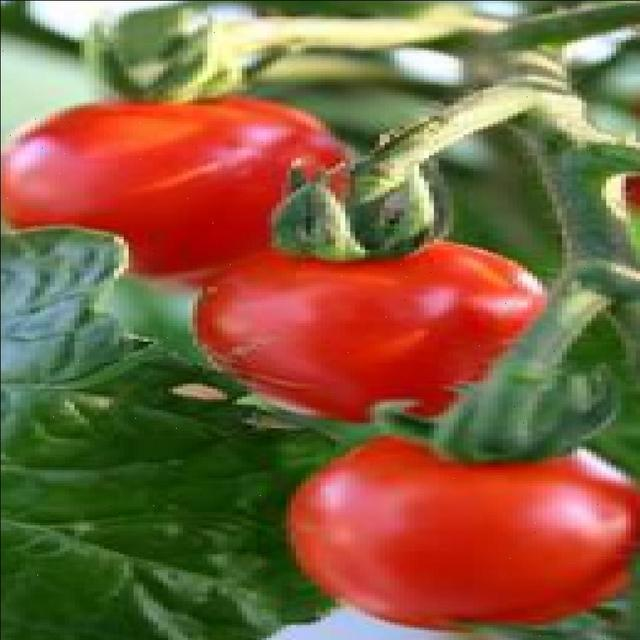Healthy Fruit: (122, 114, 313, 353)
